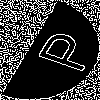P: (25, 25, 100, 75)
